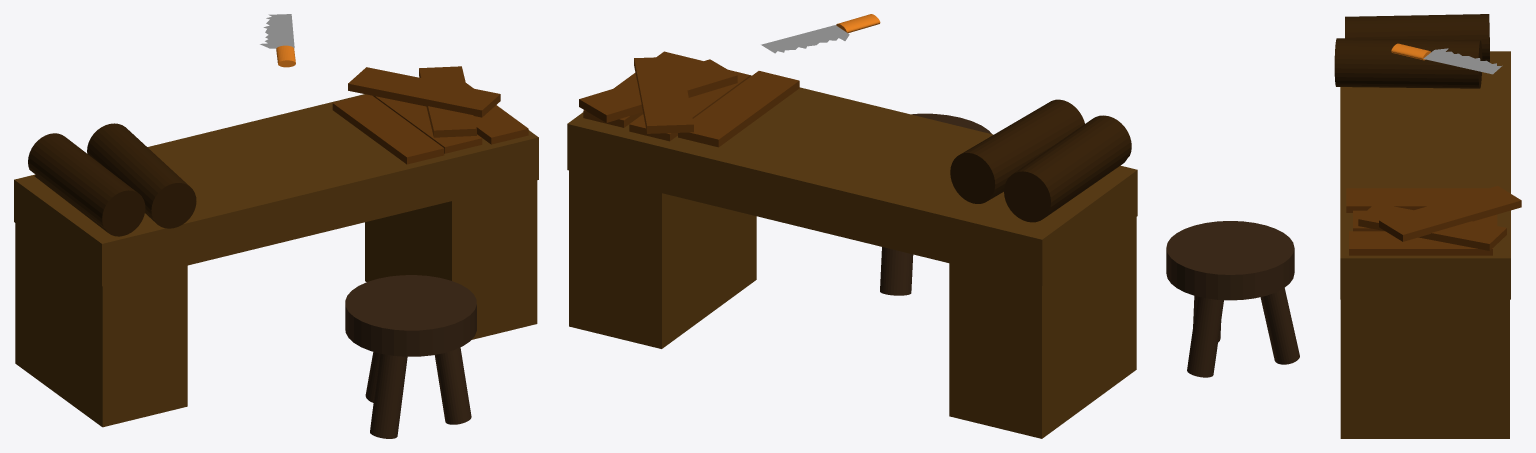
Rendered from workbench.fbx.
The picture shows the model from 3 angles, left to right: view 1: azimuth 30°, elevation 25°; view 2: azimuth 150°, elevation 25°; view 3: azimuth 270°, elevation 25°; orthographic projection. The views are drawn at different scales.
Visible parts, largest first — view 1: Cube, Cube.002, Cube.001, Cylinder, Cylinder.004, Cylinder.005, Cube.006, Cube.003, Cylinder.003, Cylinder.002, Cube.005, Cube.004 (+2 smaller); view 2: Cube, Cube.002, Cube.001, Cylinder.004, Cylinder.005, Cube.003, Cube.006, Cube.005, Cylinder.006, Cylinder.001, Cube.004, Cube.007 (+1 smaller); view 3: Cube, Cube.001, Cylinder, Cylinder.005, Cylinder.004, Cube.006, Cube.007, Cube.003, Cube.005, Cylinder.002, Cylinder.001, Cylinder.006 (+1 smaller).
Boxes of the visible parts, x1=… form: Cube: x1=14, y1=94, x2=538, y2=286; Cube.002: x1=15, y1=223, x2=187, y2=427; Cube.001: x1=365, y1=180, x2=537, y2=339; Cylinder: x1=345, y1=275, x2=476, y2=356; Cylinder.004: x1=28, y1=133, x2=145, y2=236; Cylinder.005: x1=87, y1=123, x2=196, y2=228; Cube.006: x1=348, y1=67, x2=500, y2=117; Cube.003: x1=332, y1=94, x2=444, y2=164; Cylinder.003: x1=370, y1=353, x2=407, y2=438; Cylinder.002: x1=434, y1=347, x2=471, y2=424; Cube.005: x1=419, y1=66, x2=476, y2=137; Cube.004: x1=373, y1=96, x2=482, y2=153; Cube: x1=567, y1=75, x2=1137, y2=285; Cube.002: x1=949, y1=217, x2=1136, y2=438; Cube.001: x1=569, y1=170, x2=756, y2=348; Cylinder.004: x1=1004, y1=115, x2=1131, y2=222; Cylinder.005: x1=950, y1=99, x2=1084, y2=203; Cube.003: x1=678, y1=71, x2=799, y2=147; Cube.006: x1=634, y1=56, x2=693, y2=133; Cube.005: x1=579, y1=59, x2=737, y2=122; Cylinder.006: x1=761, y1=14, x2=880, y2=53; Cylinder.001: x1=880, y1=247, x2=913, y2=295; Cube.004: x1=629, y1=69, x2=750, y2=141; Cube.007: x1=583, y1=51, x2=703, y2=127; Cube: x1=1340, y1=51, x2=1510, y2=299; Cube.001: x1=1340, y1=299, x2=1509, y2=438; Cylinder: x1=1166, y1=221, x2=1294, y2=300; Cylinder.005: x1=1334, y1=38, x2=1482, y2=88; Cylinder.004: x1=1345, y1=14, x2=1489, y2=62; Cube.006: x1=1379, y1=186, x2=1521, y2=241; Cube.007: x1=1349, y1=231, x2=1492, y2=255; Cube.003: x1=1346, y1=188, x2=1488, y2=212; Cube.005: x1=1358, y1=203, x2=1506, y2=250; Cylinder.002: x1=1187, y1=296, x2=1223, y2=377; Cylinder.001: x1=1260, y1=288, x2=1299, y2=364; Cylinder.006: x1=1391, y1=43, x2=1502, y2=74.
Bounding box in the file's own units: 679 × 456 × 493.
